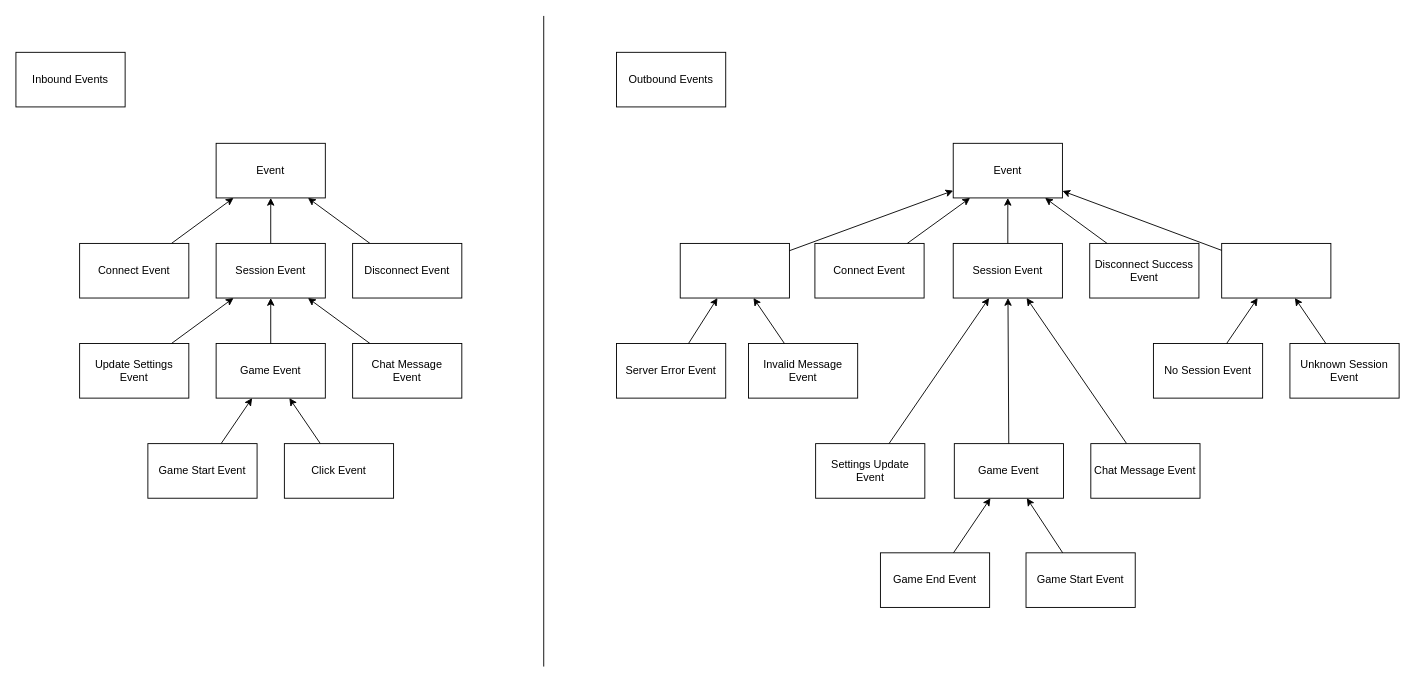
Some shapes in this 1415 by 683 pixel diagram are drawn without their labels. The centre of each missing label's shape, as x and y in pixels:
"Error Event" goes at point (734, 270).
"Session Error Event" goes at point (1276, 270).
